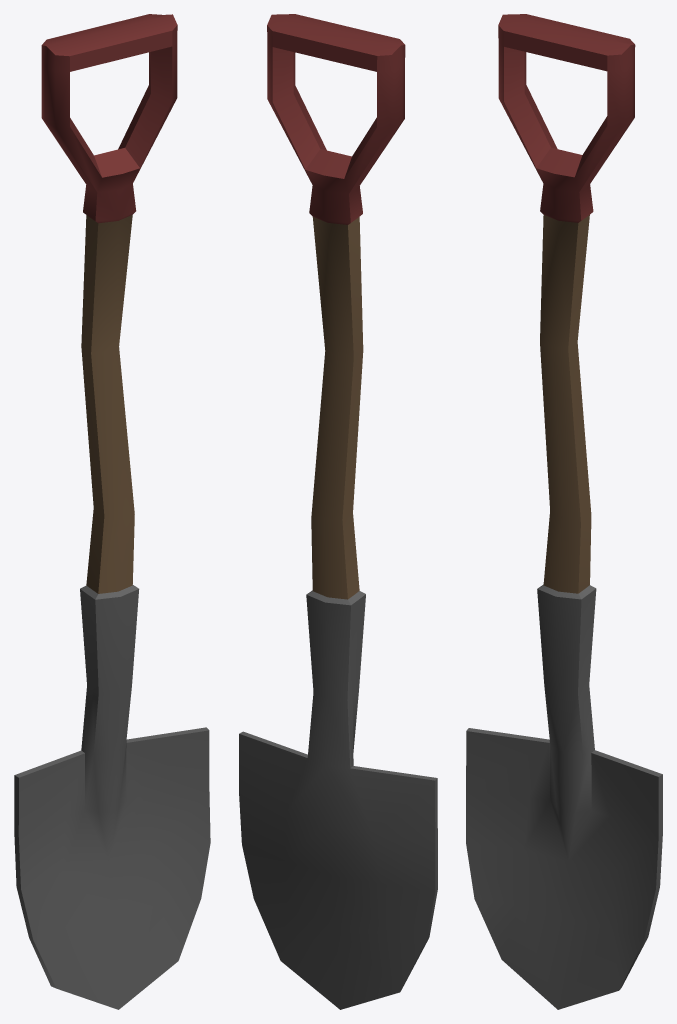
The model's file is Shovel_Medium.fbx.
3 renders of one model, left to right at view 1: azimuth 30°, elevation 25°; view 2: azimuth 150°, elevation 25°; view 3: azimuth 330°, elevation 25°, orthographic.
Parts seen in each view (by area): view 1: Shovel_Medium; view 2: Shovel_Medium; view 3: Shovel_Medium.
Boxes of the visible parts, x1,y1,x2,y2 form: Shovel_Medium: (14, 14, 210, 1009); Shovel_Medium: (239, 14, 437, 1009); Shovel_Medium: (466, 14, 662, 1009).
Size of the model in its own units: 41.46 by 200 by 9.47.
